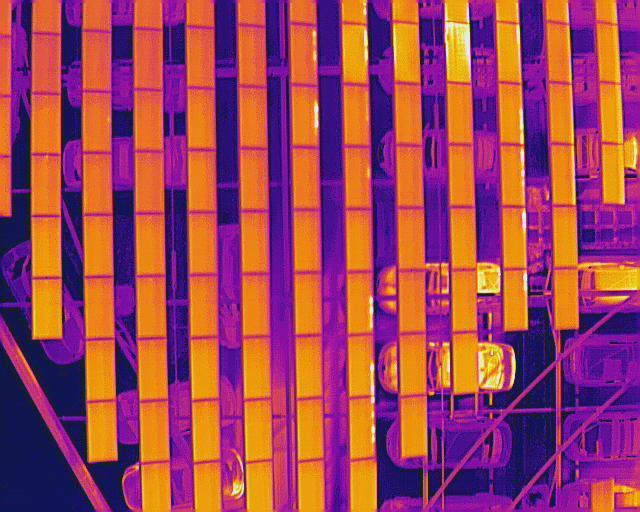Cell: (343, 147, 372, 210)
Cell-Multi: (348, 398, 376, 460)
No-Anomaly: (85, 340, 117, 402), (135, 276, 166, 340), (134, 214, 165, 277), (237, 24, 268, 87), (82, 29, 112, 94), (292, 146, 322, 210), (31, 93, 61, 156), (83, 151, 113, 214), (83, 90, 113, 153), (84, 276, 114, 339), (134, 150, 163, 215), (189, 273, 218, 338), (31, 154, 60, 219), (239, 84, 268, 149), (397, 270, 426, 335), (137, 336, 166, 401), (133, 29, 162, 94), (189, 212, 218, 276), (189, 337, 218, 401), (241, 274, 270, 338), (138, 402, 168, 463), (31, 217, 61, 278), (87, 401, 117, 462), (32, 277, 61, 340), (449, 208, 478, 271), (242, 337, 271, 400), (395, 207, 424, 270), (191, 400, 220, 463), (293, 209, 321, 274), (392, 21, 420, 86), (84, 214, 112, 278), (241, 211, 269, 275), (241, 147, 269, 211), (186, 27, 214, 91), (345, 209, 373, 272), (344, 84, 372, 147), (396, 145, 424, 208), (134, 87, 161, 152), (545, 19, 572, 83), (188, 86, 215, 150), (296, 335, 323, 399), (32, 32, 60, 93), (451, 333, 478, 396), (399, 334, 426, 397), (244, 399, 271, 462), (189, 148, 215, 213), (452, 267, 478, 332), (294, 272, 321, 334), (297, 397, 323, 461), (395, 80, 420, 146), (448, 144, 474, 207), (447, 83, 473, 145), (550, 143, 575, 207), (596, 21, 621, 85), (553, 267, 578, 330), (548, 81, 572, 146), (400, 396, 425, 458), (553, 206, 578, 268), (599, 82, 624, 144), (602, 141, 625, 204)
Unclassified: (346, 271, 374, 336), (289, 24, 318, 85), (342, 24, 369, 87), (291, 85, 318, 148), (348, 336, 374, 398), (501, 206, 526, 270), (498, 82, 523, 145), (496, 22, 521, 85), (445, 21, 470, 84), (500, 144, 525, 206), (504, 269, 528, 330)
